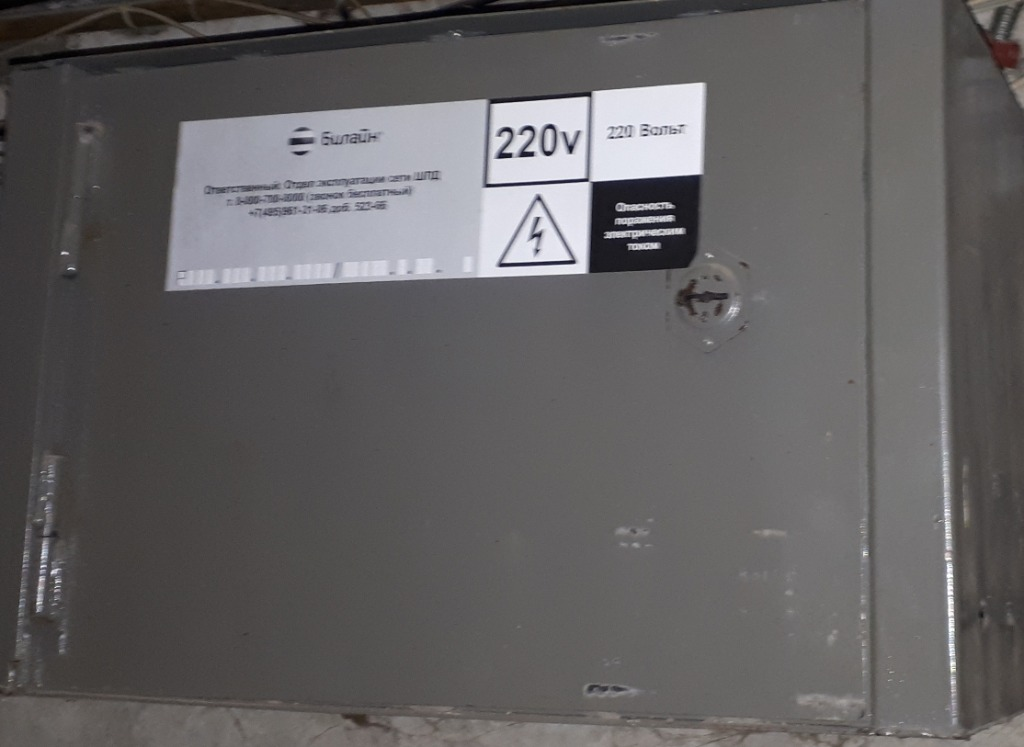e2-6u: (9, 0, 1022, 736)
